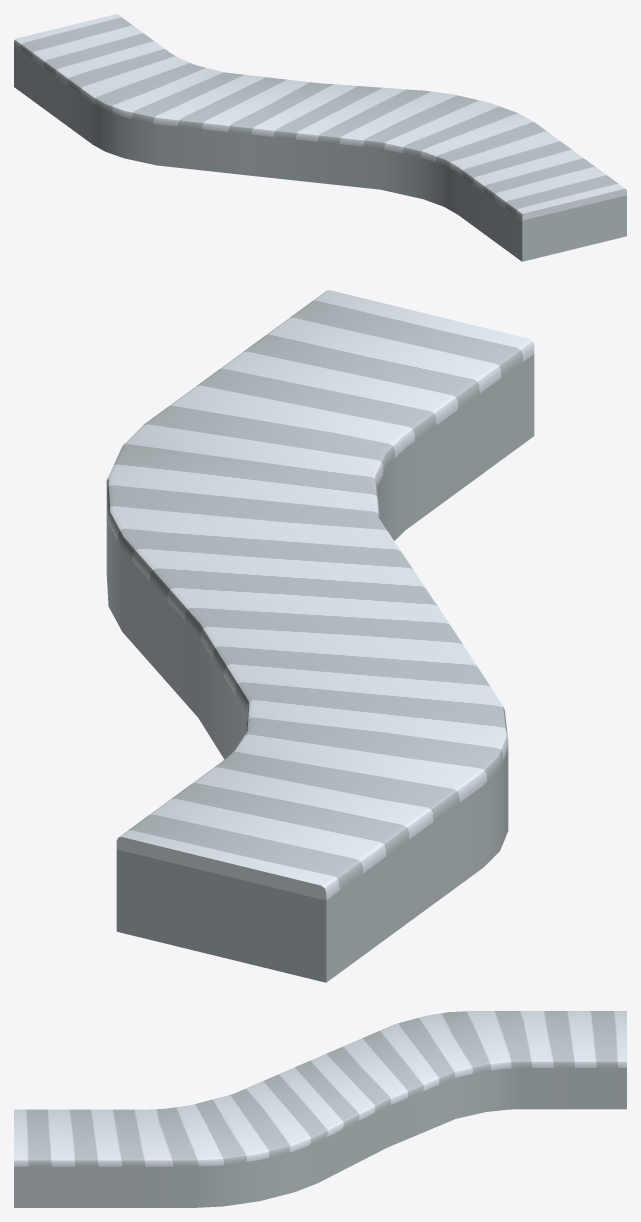
Rendered from Road turn L.fbx.
3 renders of one model, top to bottom at view 1: azimuth 30°, elevation 25°; view 2: azimuth 150°, elevation 25°; view 3: azimuth 270°, elevation 25°, orthographic. The views are drawn at different scales.
Visible parts, largest first — view 1: Road_turn_L_Cap, Road_turn_L; view 2: Road_turn_L_Cap, Road_turn_L; view 3: Road_turn_L_Cap, Road_turn_L.
Boxes of the visible parts, box(x1,y1,x2,y2) form: Road_turn_L_Cap: box(14, 14, 626, 220); Road_turn_L: box(14, 46, 626, 261); Road_turn_L_Cap: box(106, 290, 534, 900); Road_turn_L: box(106, 354, 534, 982); Road_turn_L_Cap: box(14, 1011, 626, 1166); Road_turn_L: box(14, 1068, 626, 1207).
Bounding box in the file's own units: 2342 × 350 × 4048.
